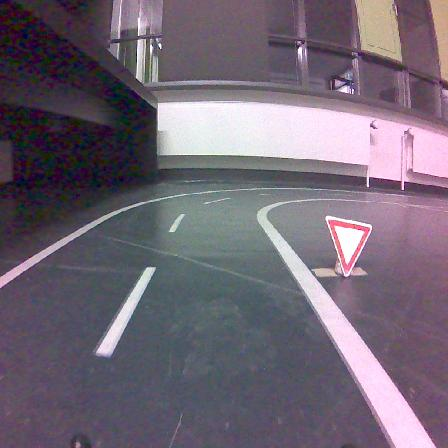GIVE_WAY: (325, 216, 371, 276)
